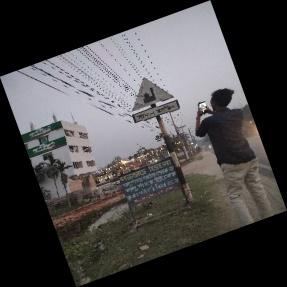Mosque in front: (131, 78, 179, 123)
